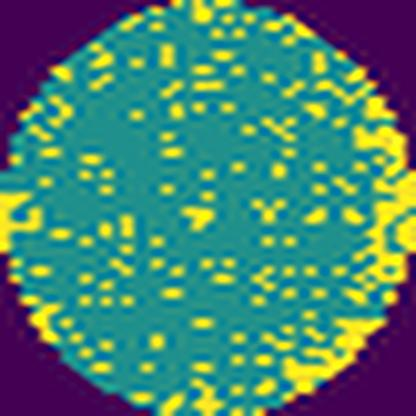Edge-Loc: (352, 89, 416, 303), (277, 312, 395, 402), (0, 183, 43, 253)
